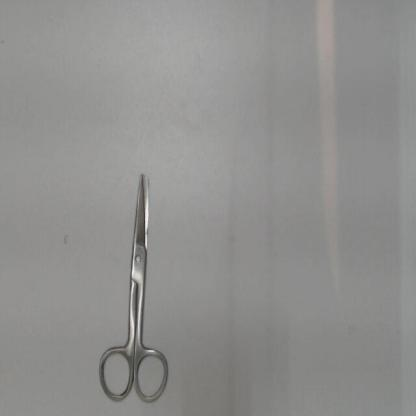Dressing Scissors: (93, 155, 177, 412)
